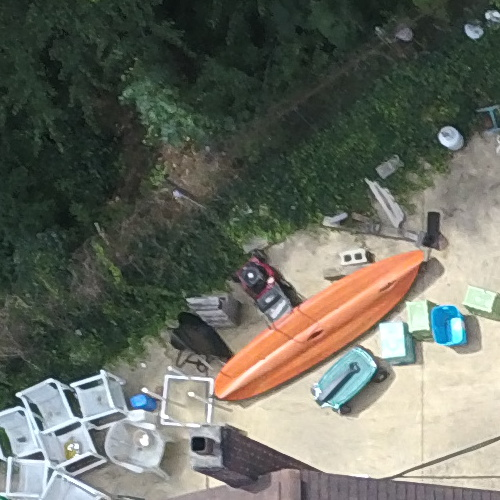container: (307, 333, 384, 429), (228, 245, 306, 328), (57, 432, 89, 465), (132, 424, 160, 456)
kayak: (206, 236, 437, 411)
larvae: (226, 243, 304, 326), (55, 430, 87, 463)
recycyling bin: (400, 297, 440, 345), (373, 318, 413, 366), (425, 301, 465, 349), (460, 281, 500, 320)
